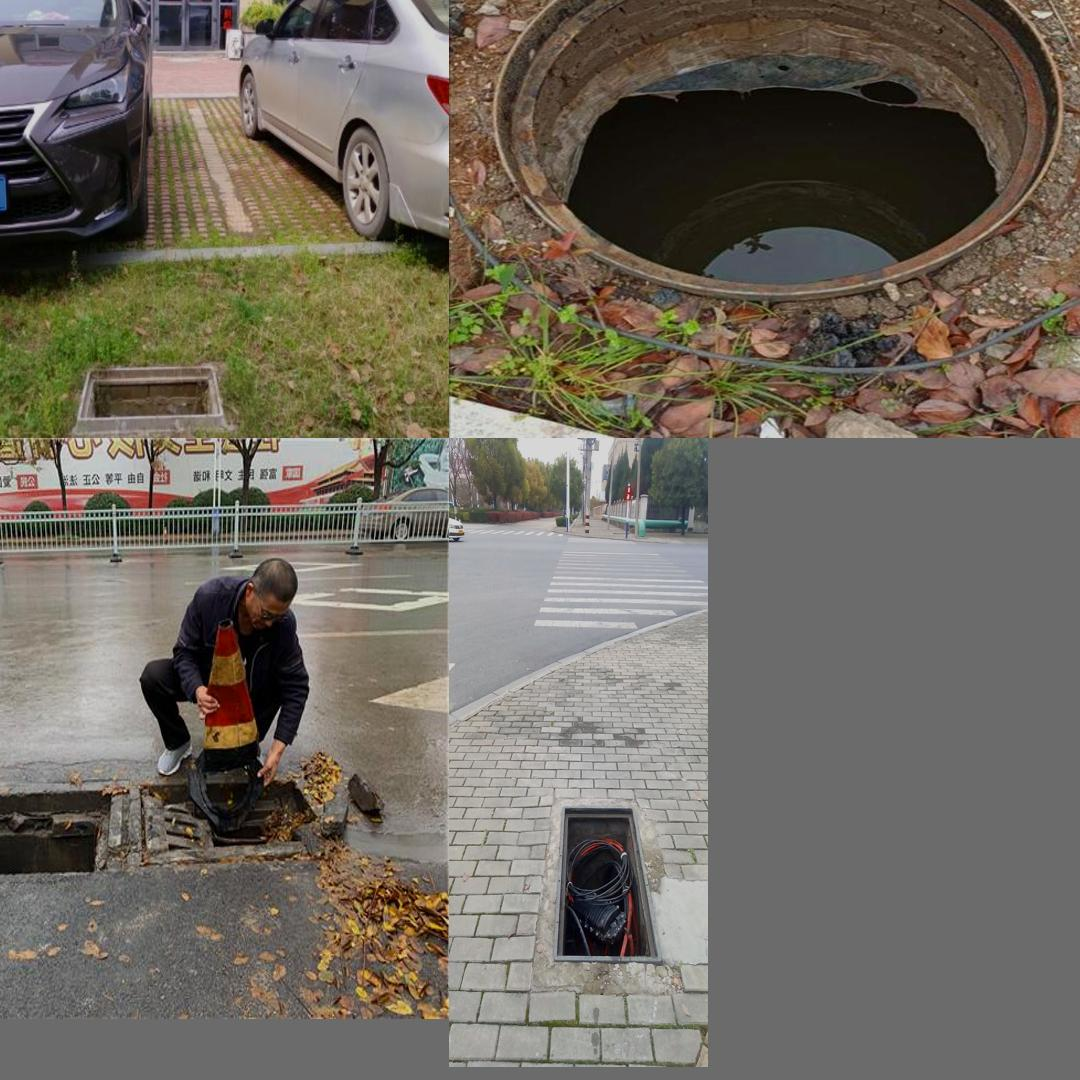lose: (489, 0, 1072, 305), (0, 746, 354, 900), (552, 788, 665, 966), (76, 354, 226, 428)
